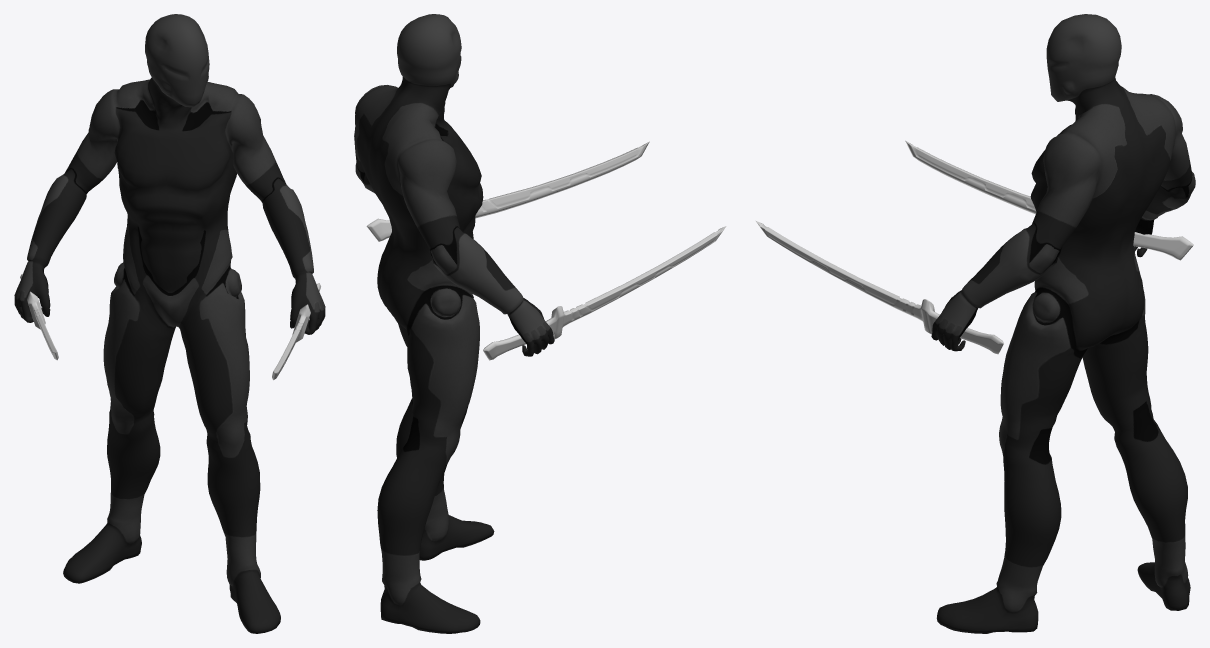
3 renders of one model, left to right at view 1: azimuth 30°, elevation 25°; view 2: azimuth 150°, elevation 25°; view 3: azimuth 270°, elevation 25°, orthographic. The views are drawn at different scales.
Parts seen in each view (by area): view 1: Cyborg_Ninja_Killer, Sword_l, Sword_l001; view 2: Cyborg_Ninja_Killer, Sword_l001, Sword_l; view 3: Cyborg_Ninja_Killer, Sword_l, Sword_l001.
Boxes of the visible parts, box(x1,y1,x2,y2) form: Cyborg_Ninja_Killer: box(14, 14, 325, 633); Sword_l: box(272, 283, 320, 380); Sword_l001: box(20, 274, 58, 360); Cyborg_Ninja_Killer: box(354, 14, 554, 633); Sword_l001: box(483, 226, 726, 360); Sword_l: box(366, 141, 649, 241); Cyborg_Ninja_Killer: box(931, 14, 1195, 633); Sword_l: box(755, 220, 1003, 354); Sword_l001: box(905, 140, 1193, 260).
Bounding box in the file's own units: 105 × 182 × 123.
